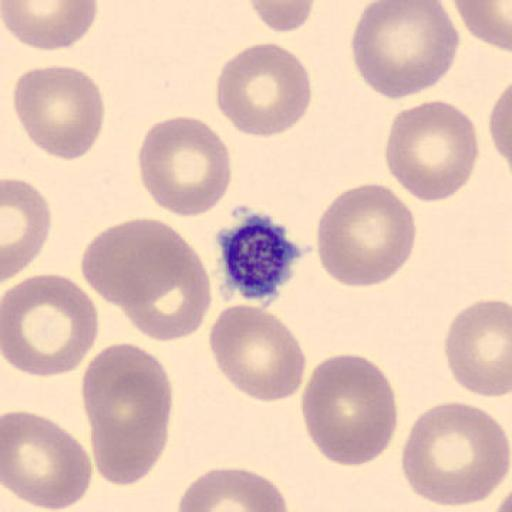Platelet: (215, 210, 300, 306)
RBC: (79, 217, 211, 340), (81, 342, 174, 487), (400, 399, 510, 509), (299, 353, 398, 468), (79, 217, 200, 311), (350, 0, 461, 100), (315, 182, 417, 288), (206, 301, 307, 404), (2, 272, 100, 378), (384, 98, 481, 204), (136, 115, 232, 218), (215, 41, 313, 140), (117, 242, 213, 342), (2, 409, 93, 511), (12, 64, 106, 162), (443, 297, 512, 399), (176, 467, 290, 512), (2, 178, 52, 280), (3, 0, 98, 52), (449, 0, 512, 52), (488, 78, 512, 183), (247, 0, 315, 35), (488, 85, 512, 167)
